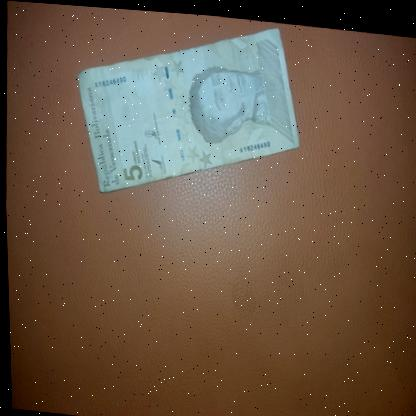five-front-vef: (71, 4, 303, 210)
